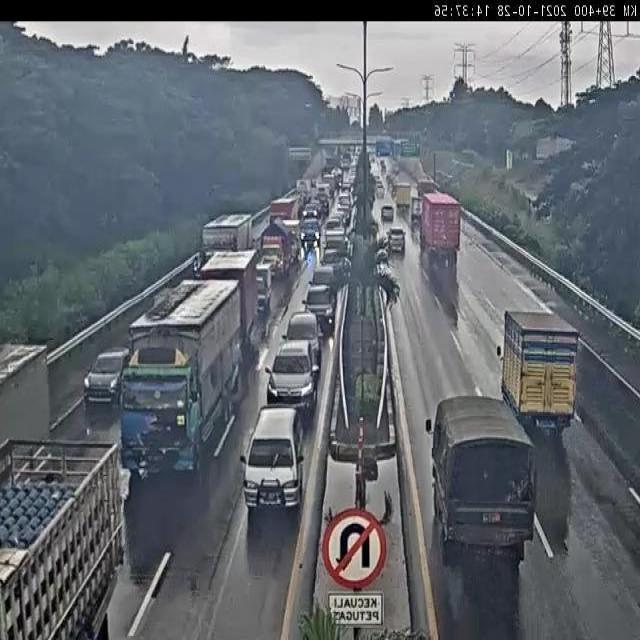Car: (266, 343, 318, 417), (80, 341, 135, 409), (301, 282, 334, 332), (299, 218, 323, 244), (385, 228, 407, 252), (380, 205, 394, 221)
Truck: (117, 280, 240, 487), (0, 436, 125, 639), (424, 394, 535, 568), (0, 344, 54, 553), (494, 309, 576, 442), (420, 192, 460, 260), (256, 217, 293, 275), (395, 182, 411, 210)
Van: (239, 404, 303, 518)
